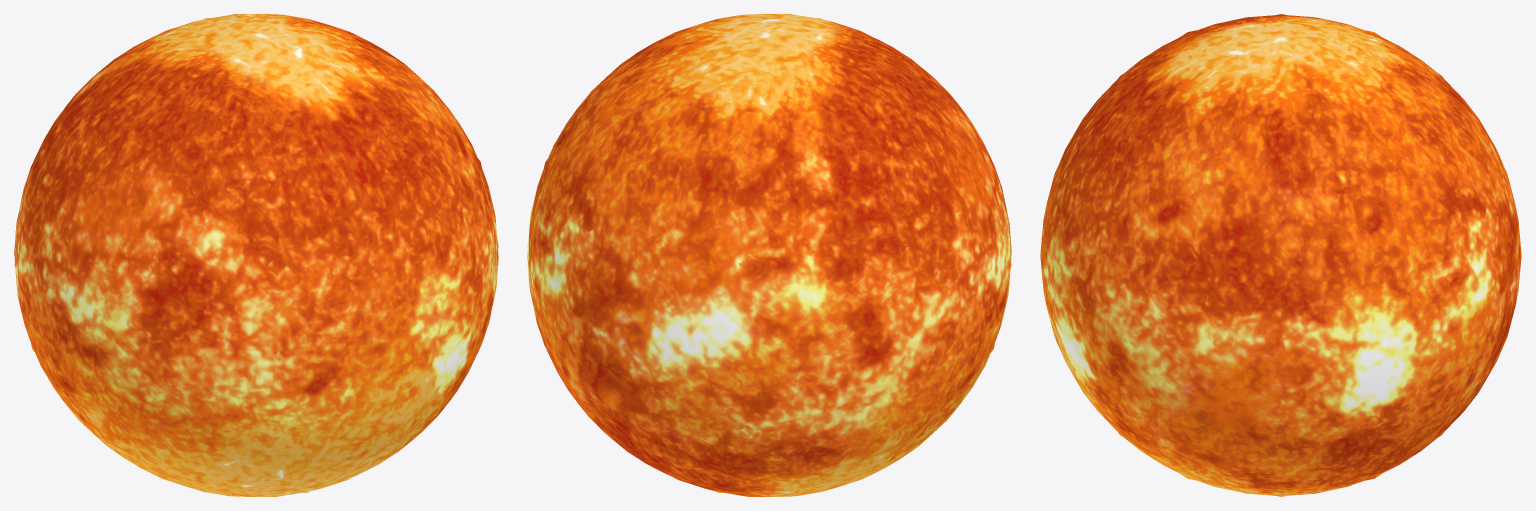
File: the_star_sun.gltf
3 views of the same model, side by side, from view 1: azimuth 30°, elevation 25°; view 2: azimuth 150°, elevation 25°; view 3: azimuth 270°, elevation 25° (orthographic).
Visible parts, largest first — view 1: Sun_LOD1__0, Sun_LOD3__0; view 2: Sun_LOD1__0, Sun_LOD3__0; view 3: Sun_LOD1__0, Sun_LOD3__0.
Part boxes in pixels (left/top/right/bottom): Sun_LOD1__0: left=14, top=14, right=498, bottom=496; Sun_LOD3__0: left=14, top=18, right=498, bottom=495; Sun_LOD1__0: left=527, top=14, right=1011, bottom=496; Sun_LOD3__0: left=527, top=18, right=1011, bottom=495; Sun_LOD1__0: left=1040, top=15, right=1521, bottom=495; Sun_LOD3__0: left=1060, top=14, right=1501, bottom=496.
Bounding box in the file's own units: 44.21 × 44.21 × 44.21.
Materials: 1 (1 with a texture image).
